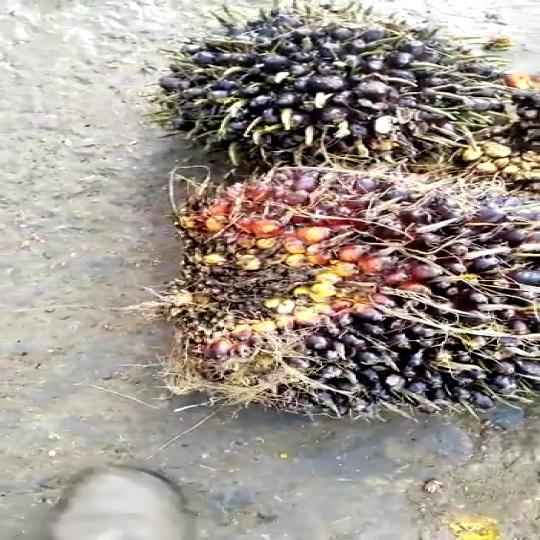mentah: (154, 170, 540, 432), (130, 4, 540, 169)
